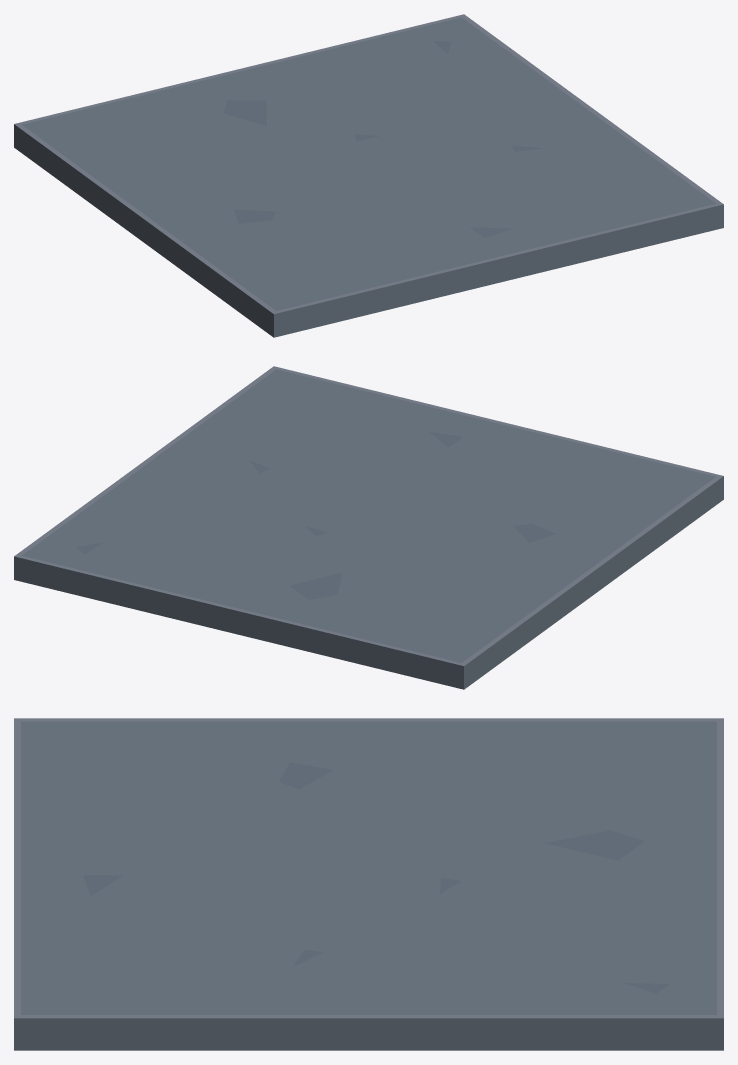
File: ConcrateSlabs_D_1_2.glb
The picture shows the model from 3 angles, top to bottom: view 1: azimuth 30°, elevation 25°; view 2: azimuth 150°, elevation 25°; view 3: azimuth 270°, elevation 25°; orthographic projection. The views are drawn at different scales.
Parts seen in each view (by area): view 1: ConcrateSlabs_D_1_2; view 2: ConcrateSlabs_D_1_2; view 3: ConcrateSlabs_D_1_2.
Part boxes in pixels (x1,y1,x2,y2): ConcrateSlabs_D_1_2: (14, 14, 723, 337); ConcrateSlabs_D_1_2: (14, 366, 723, 689); ConcrateSlabs_D_1_2: (14, 718, 723, 1050).
Bounding box in the file's own units: 8 × 0.4 × 8.
Materials: 1 (1 with a texture image).
